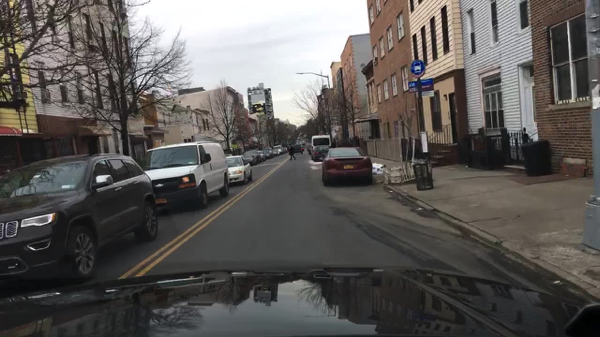bus: (311, 134, 331, 154)
car: (0, 153, 158, 287), (322, 147, 371, 186), (225, 156, 254, 184), (312, 146, 329, 160), (242, 152, 260, 164), (263, 148, 275, 160), (291, 143, 303, 155), (273, 145, 285, 154), (261, 150, 265, 162), (308, 145, 312, 155), (274, 149, 279, 155)
person: (284, 144, 296, 162)
traffic sign: (419, 77, 435, 99), (410, 61, 424, 77), (407, 82, 419, 94)
truck: (141, 142, 229, 208)
